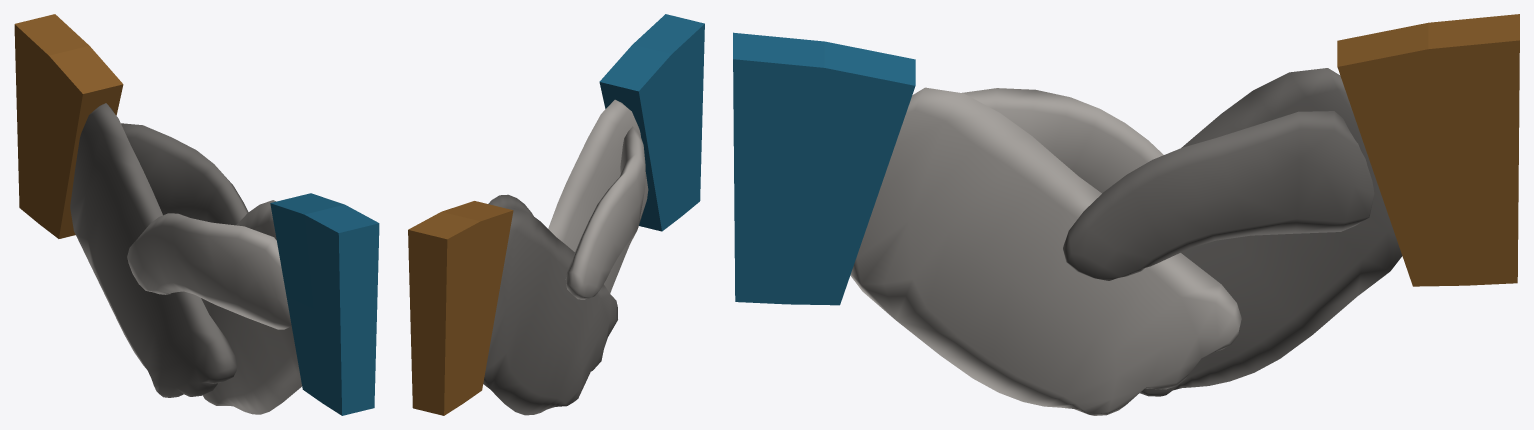
The model's file is handshake.glb.
3 renders of one model, left to right at view 1: azimuth 30°, elevation 25°; view 2: azimuth 150°, elevation 25°; view 3: azimuth 270°, elevation 25°, orthographic. The views are drawn at different scales.
Visible parts, largest first — view 1: Cube.001; view 2: Cube.001; view 3: Cube.001.
Boxes of the visible parts, x1,y1,x2,y2 form: Cube.001: (14,14,379,415); Cube.001: (408,14,704,415); Cube.001: (733,14,1519,415).
Bounding box in the file's own units: 0.5982 × 1.51 × 2.95.
